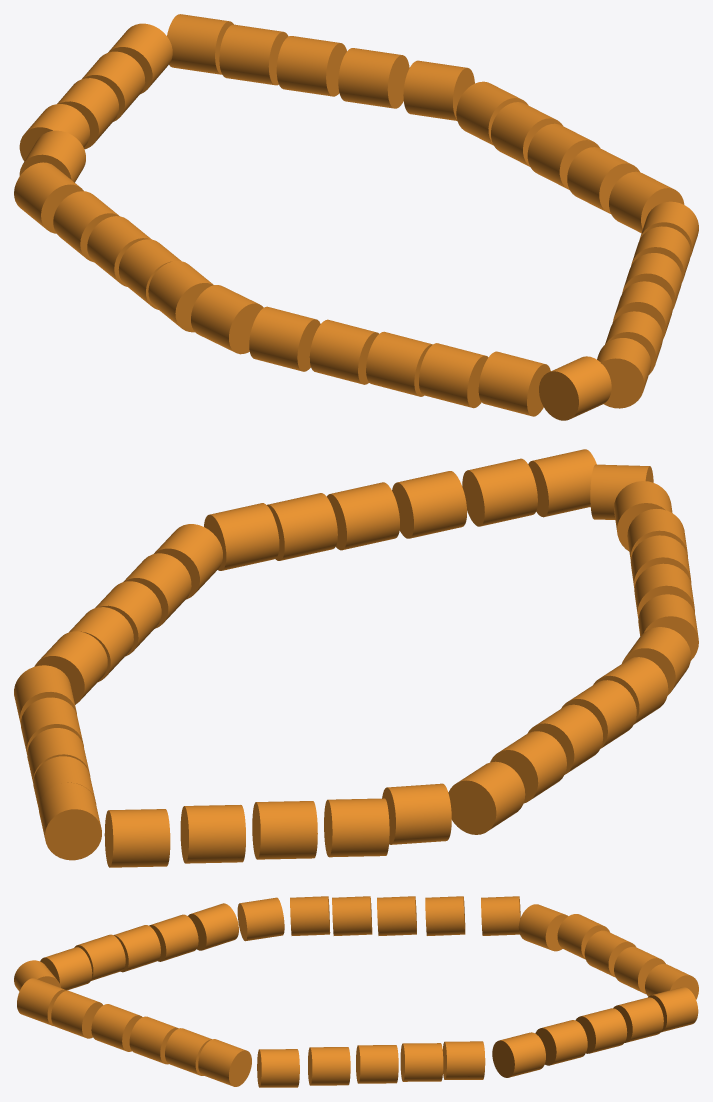
The model's file is tasbih.glb.
3 renders of one model, top to bottom at view 1: azimuth 30°, elevation 25°; view 2: azimuth 150°, elevation 25°; view 3: azimuth 270°, elevation 25°, orthographic. The views are drawn at different scales.
Visible parts, largest first — view 1: Cylinder.019, Cylinder.018, Cylinder.032, Cylinder.003, Cylinder.030, Cylinder.004, Cylinder, Cylinder.015, Cylinder.017, Cylinder.002, Cylinder.001, Cylinder.016 (+21 smaller); view 2: Cylinder.005, Cylinder.025, Cylinder.029, Cylinder.016, Cylinder.012, Cylinder.013, Cylinder.010, Cylinder.014, Cylinder.028, Cylinder.011, Cylinder.026, Cylinder.027 (+21 smaller); view 3: Cylinder.015, Cylinder.026, Cylinder.004, Cylinder.019, Cylinder.022, Cylinder.025, Cylinder.003, Cylinder.020, Cylinder.023, Cylinder.024, Cylinder.021, Cylinder.018 (+21 smaller).
Part boxes in pixels (<box>): Cylinder.019: <box>338,48,409,108</box>; Cylinder.018: <box>276,36,346,96</box>; Cylinder.032: <box>539,356,611,420</box>; Cylinder.003: <box>249,306,320,371</box>; Cylinder.030: <box>478,351,550,416</box>; Cylinder.004: <box>191,285,263,354</box>; Cylinder: <box>419,343,488,408</box>; Cylinder.015: <box>403,60,474,120</box>; Cylinder.017: <box>219,24,288,85</box>; Cylinder.002: <box>309,319,378,384</box>; Cylinder.001: <box>366,331,432,396</box>; Cylinder.016: <box>167,14,233,74</box>; Cylinder.005: <box>448,761,525,834</box>; Cylinder.025: <box>462,458,537,526</box>; Cylinder.029: <box>392,471,466,538</box>; Cylinder.016: <box>39,782,101,860</box>; Cylinder.012: <box>324,798,389,857</box>; Cylinder.013: <box>252,801,317,859</box>; Cylinder.010: <box>104,809,170,867</box>; Cylinder.014: <box>180,805,245,863</box>; Cylinder.028: <box>327,482,399,550</box>; Cylinder.011: <box>382,783,451,844</box>; Cylinder.026: <box>204,503,279,570</box>; Cylinder.027: <box>267,493,337,560</box>; Cylinder.015: <box>492,1032,545,1077</box>; Cylinder.026: <box>198,1039,251,1086</box>; Cylinder.004: <box>237,897,284,941</box>; Cylinder.019: <box>535,1020,587,1065</box>; Cylinder.022: <box>400,1043,443,1081</box>; Cylinder.025: <box>51,990,103,1038</box>; Cylinder.003: <box>188,903,238,950</box>; Cylinder.020: <box>257,1049,299,1087</box>; Cylinder.023: <box>356,1045,398,1083</box>; Cylinder.024: <box>308,1047,350,1085</box>; Cylinder.021: <box>442,1041,485,1079</box>; Cylinder.018: <box>575,1008,627,1053</box>.
Bounding box in the file's own units: 10.59 × 1.06 × 18.11.
